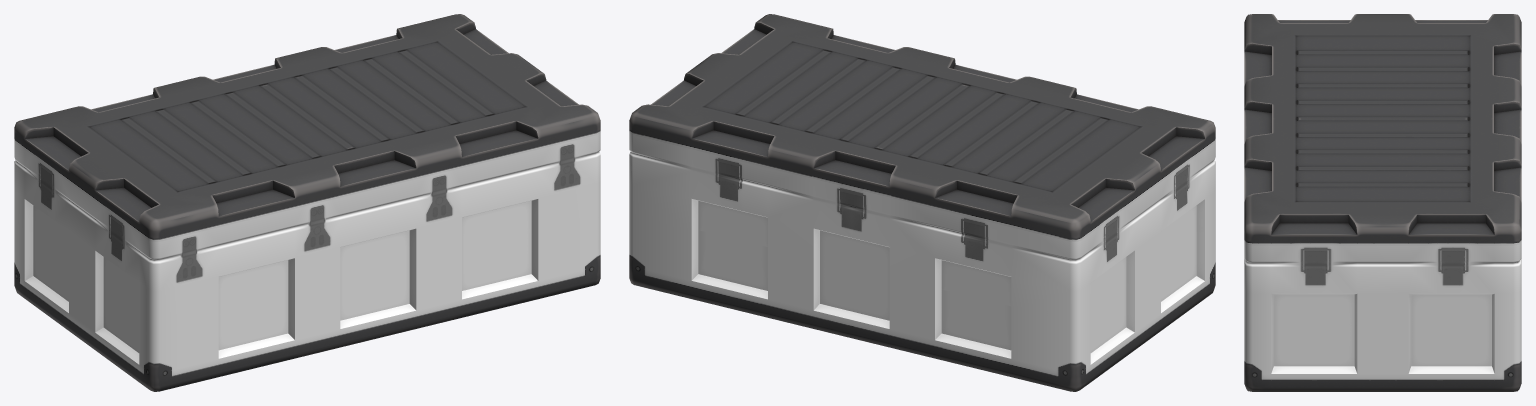
The model's file is WeaponStorageCase01_3.FBX.
3 renders of one model, left to right at view 1: azimuth 30°, elevation 25°; view 2: azimuth 150°, elevation 25°; view 3: azimuth 270°, elevation 25°, orthographic. The views are drawn at different scales.
Parts seen in each view (by area): view 1: WeaponStorageCase01_3; view 2: WeaponStorageCase01_3; view 3: WeaponStorageCase01_3.
Part boxes in pixels (x1,y1,x2,y2): WeaponStorageCase01_3: [14, 14, 600, 391]; WeaponStorageCase01_3: [629, 14, 1215, 391]; WeaponStorageCase01_3: [1244, 14, 1521, 391].
Size of what is drawn, in the model's own units: 0.94 by 0.3431 by 0.5123.
